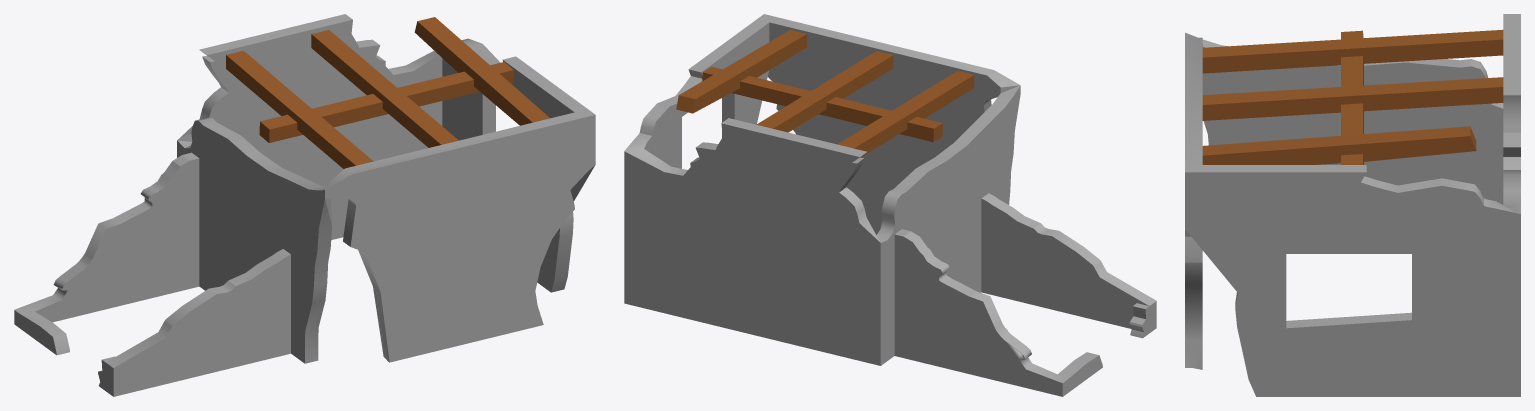
Rendered from Ruins_New_Small_Stone_Timber_01.fbx.
The picture shows the model from 3 angles, left to right: view 1: azimuth 30°, elevation 25°; view 2: azimuth 150°, elevation 25°; view 3: azimuth 270°, elevation 25°; orthographic projection. The views are drawn at different scales.
Parts seen in each view (by area): view 1: Model; view 2: Model; view 3: Model.
Part boxes in pixels (<box>): Model: <box>14,14,595,396</box>; Model: <box>624,14,1156,396</box>; Model: <box>1185,14,1520,396</box>.
Size of the model in its own units: 1343 by 616 by 767.
